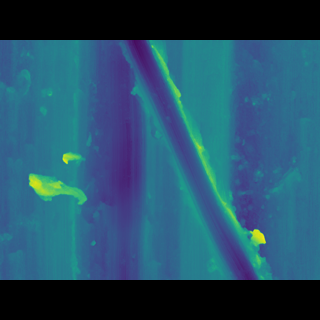Loch: (120, 68, 261, 251), (30, 167, 86, 193)
